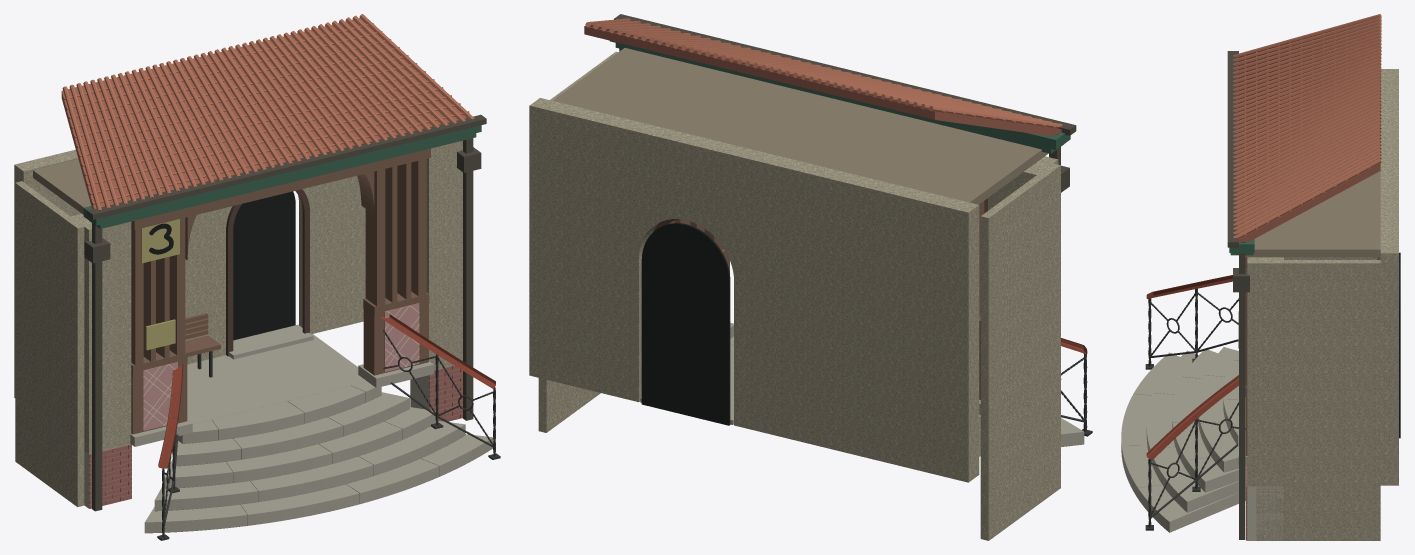
File: dingxiang-porch.glb
3 views of the same model, side by side, from view 1: azimuth 30°, elevation 25°; view 2: azimuth 150°, elevation 25°; view 3: azimuth 270°, elevation 25° (orthographic). The views are drawn at different scales.
Visible parts, largest first — view 1: 丁香花园三号楼门廊与弧形石阶; view 2: 丁香花园三号楼门廊与弧形石阶; view 3: 丁香花园三号楼门廊与弧形石阶.
Part boxes in pixels (x1,y1,x2,y2): 丁香花园三号楼门廊与弧形石阶: [14, 14, 500, 540]; 丁香花园三号楼门廊与弧形石阶: [529, 14, 1092, 540]; 丁香花园三号楼门廊与弧形石阶: [1121, 14, 1400, 540].
Size of the model in its own units: 5.7 by 5.02 by 3.51.
19 materials, 1 textured.
